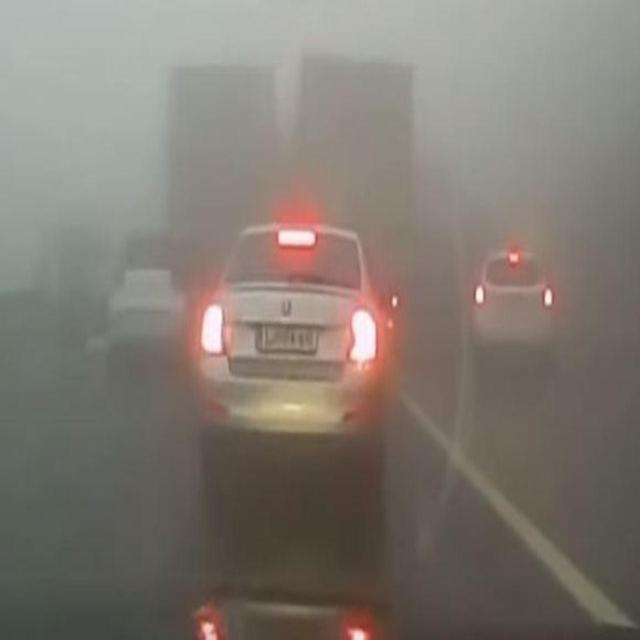Car: (200, 229, 378, 481), (459, 200, 560, 372), (102, 247, 181, 384)
Truck: (287, 46, 421, 260), (156, 51, 282, 253)
